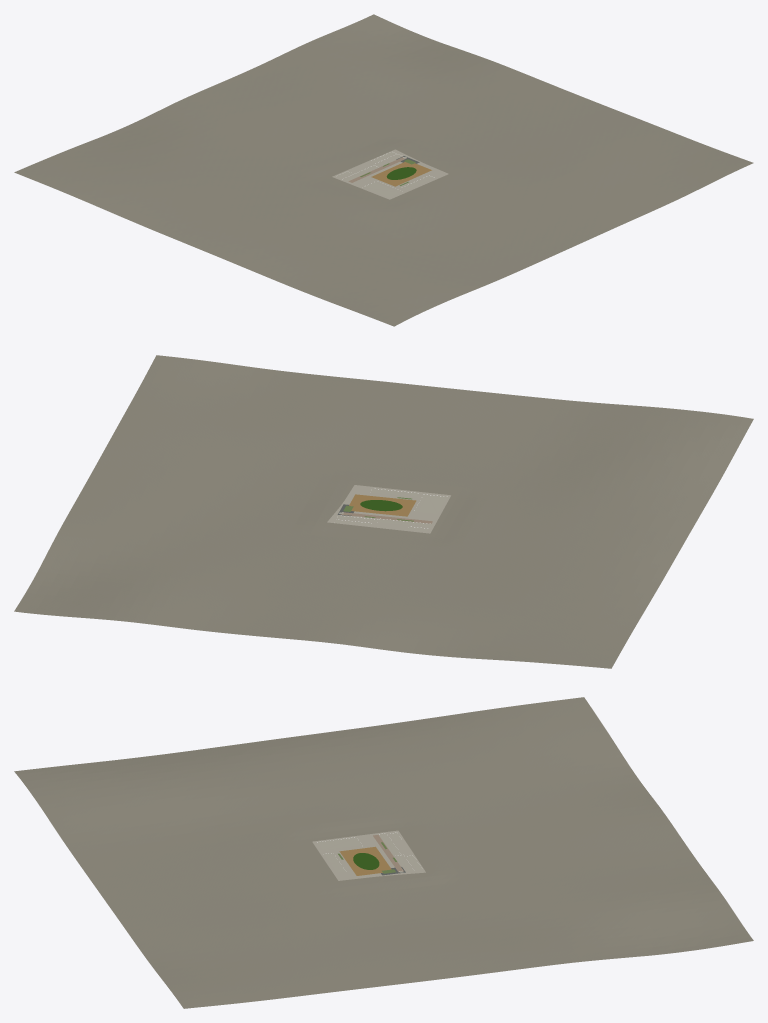
The picture shows the model from 3 angles, top to bottom: view 1: azimuth 30°, elevation 25°; view 2: azimuth 150°, elevation 25°; view 3: azimuth 270°, elevation 25°; orthographic projection. The views are drawn at different scales.
Parts seen in each view (by area): view 1: ground_context-estimated, surface_school-paved-walk, surface_sports-field-track; view 2: ground_context-estimated, surface_school-paved-walk, surface_sports-field-track; view 3: ground_context-estimated, surface_school-paved-walk, surface_sports-field-track.
Boxes of the visible parts, x1,y1,x2,y2 form: ground_context-estimated: (14, 14, 753, 326); surface_school-paved-walk: (332, 149, 448, 199); surface_sports-field-track: (371, 162, 431, 186); ground_context-estimated: (14, 355, 753, 668); surface_school-paved-walk: (327, 485, 450, 533); surface_sports-field-track: (349, 494, 416, 516); ground_context-estimated: (14, 697, 753, 1008); surface_school-paved-walk: (312, 830, 425, 880); surface_sports-field-track: (339, 846, 391, 875).
Size of the model in its own units: 896 by 8.25 by 896.
Materials: 7 (7 with a texture image).
